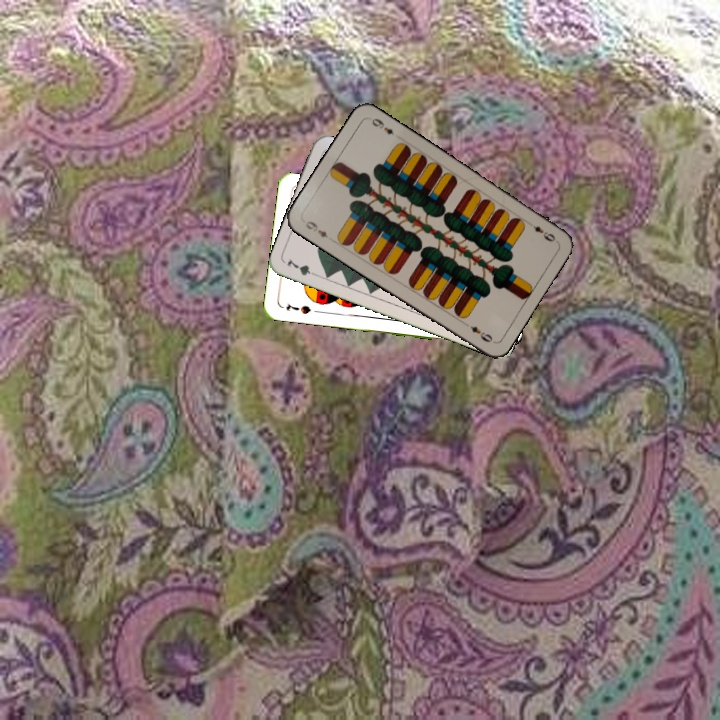E9: (302, 217, 331, 241), (529, 221, 558, 244)
G7: (283, 254, 322, 280)
S7: (282, 299, 313, 317)
